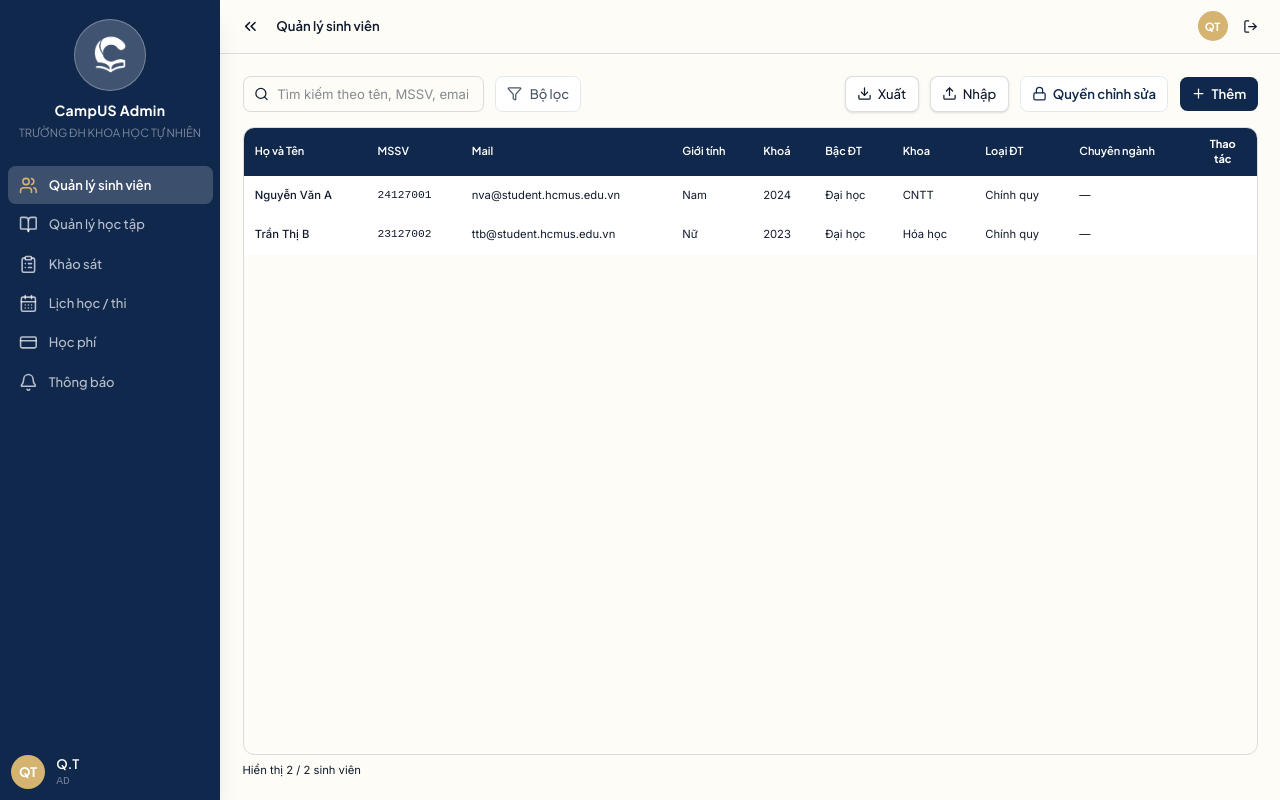
it: Unit Test: View & Search Student Directory (UC 2.18) › [TC_2.18_04 & 05]: Verify Student Detail Modal navigation and Tab switching
// Click vào 1 dòng sinh viên
Click the text "Nguyễn Văn A" at (293, 195), box [255, 188, 332, 202]
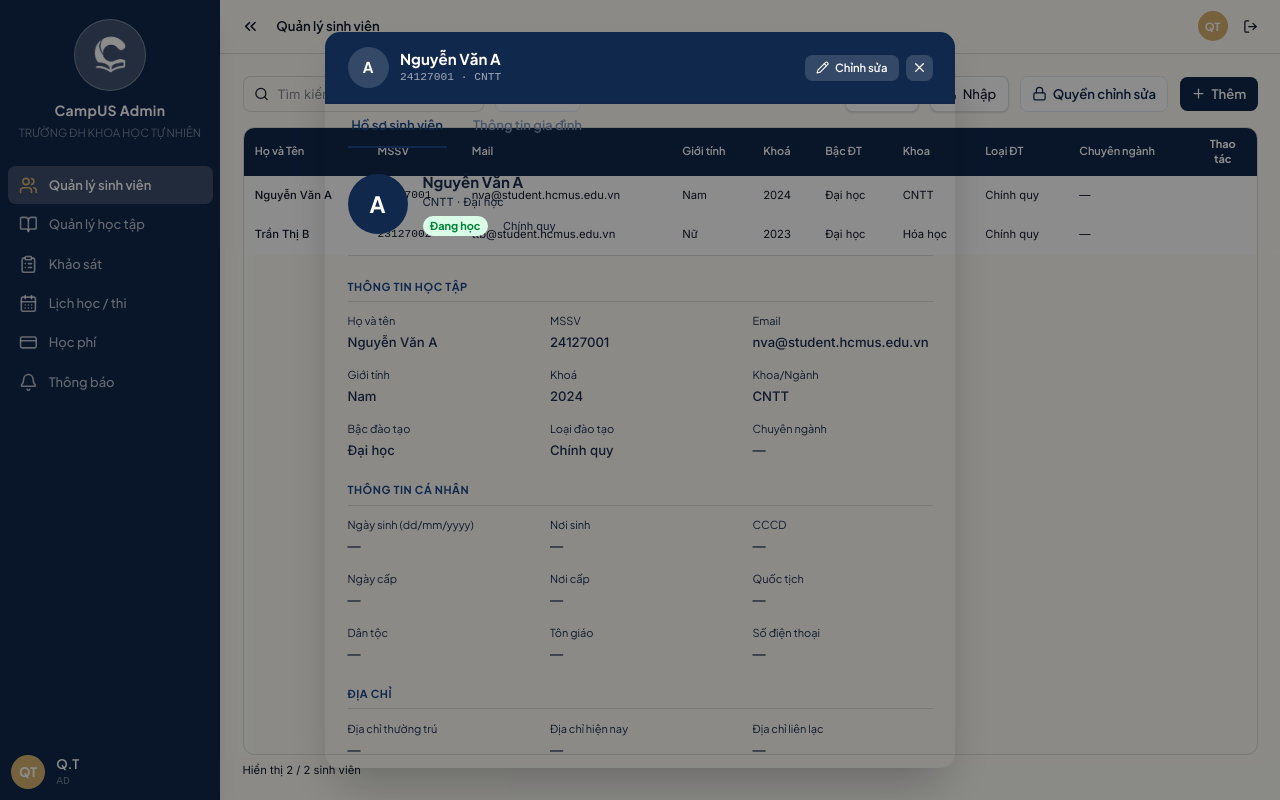
Result: the button "Hồ sơ sinh viên" is shown at [348, 104, 447, 148]
Result: the button "Thông tin gia đình" is shown
// Click chuyển tab Thông tin gia đình
Click the button "Thông tin gia đình" at (528, 126), box [469, 104, 586, 148]
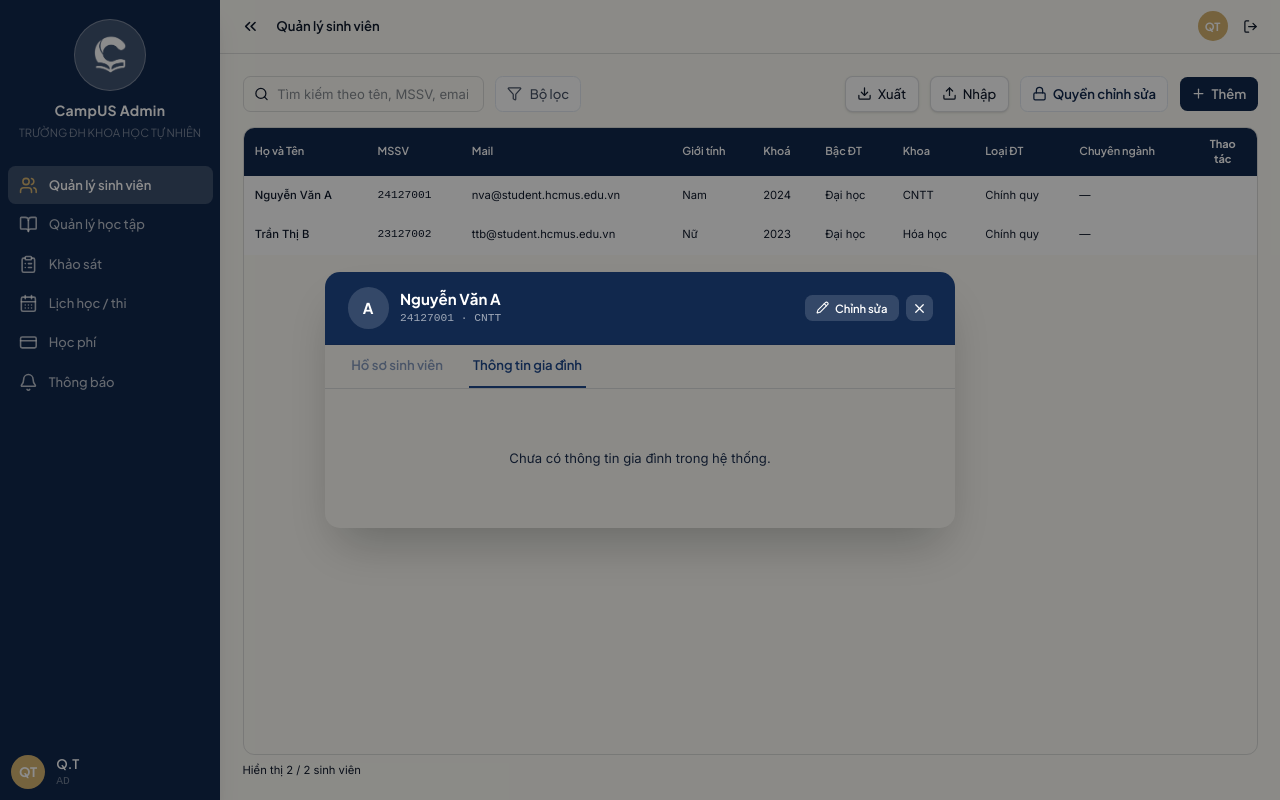
Result: the text "Chưa có thông tin gia đình trong hệ thống." is shown at [509, 450, 771, 466]
// Chuyển lại tab Hồ sơ
Click the button "Hồ sơ sinh viên" at (397, 366), box [348, 345, 447, 388]
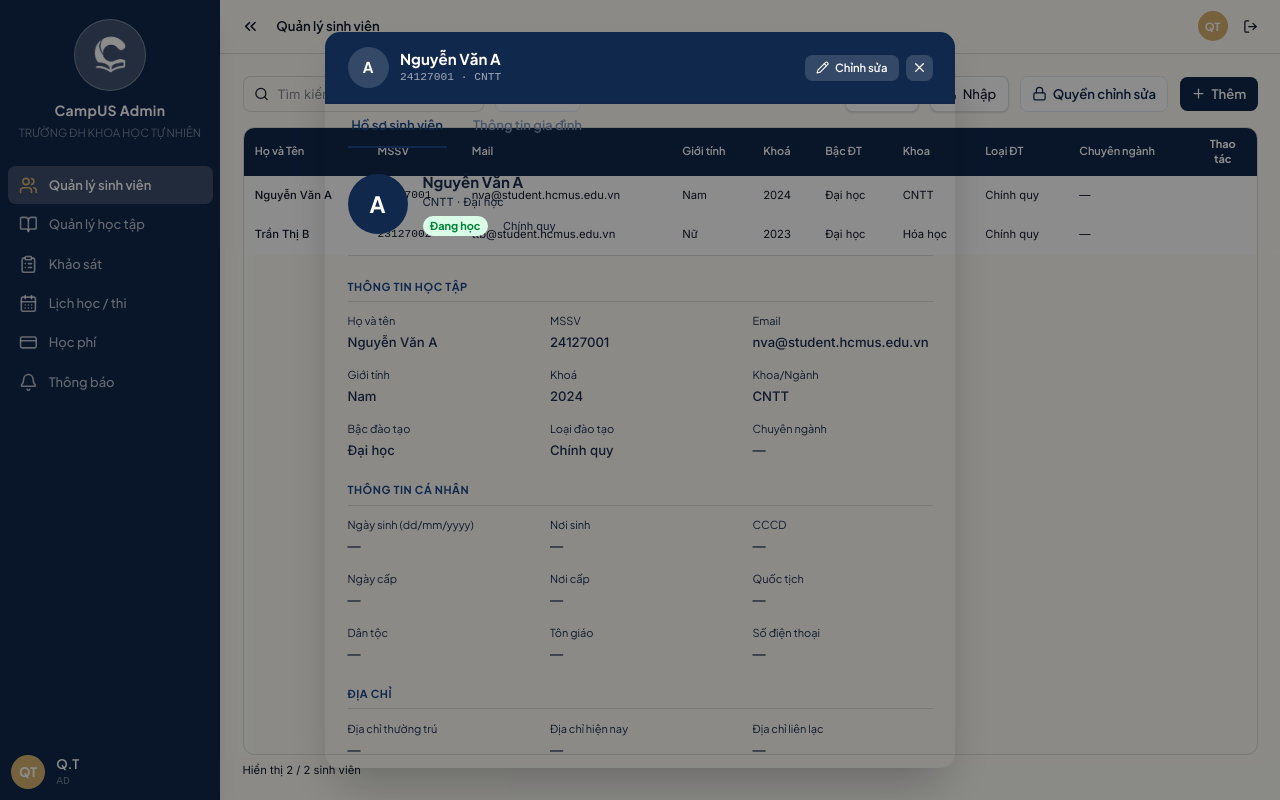
Result: the text "Thông tin học tập" is shown at [348, 278, 932, 302]
